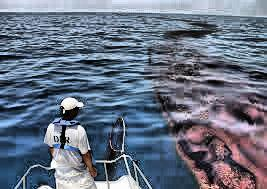truecolor: (159, 25, 267, 189)
